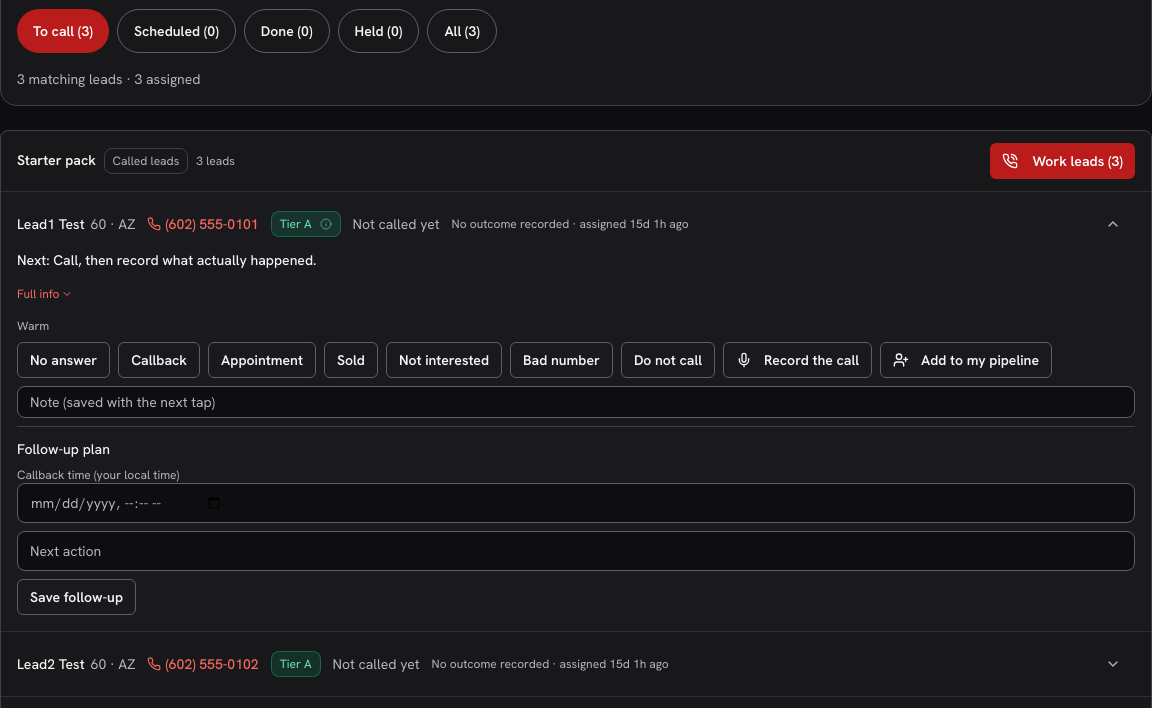
My Leads work list › recording a result on the open lead opens the next one down
(page scrolled)
Step 1. Click the button "No answer" → (64, 360), box [17,342,110,378]
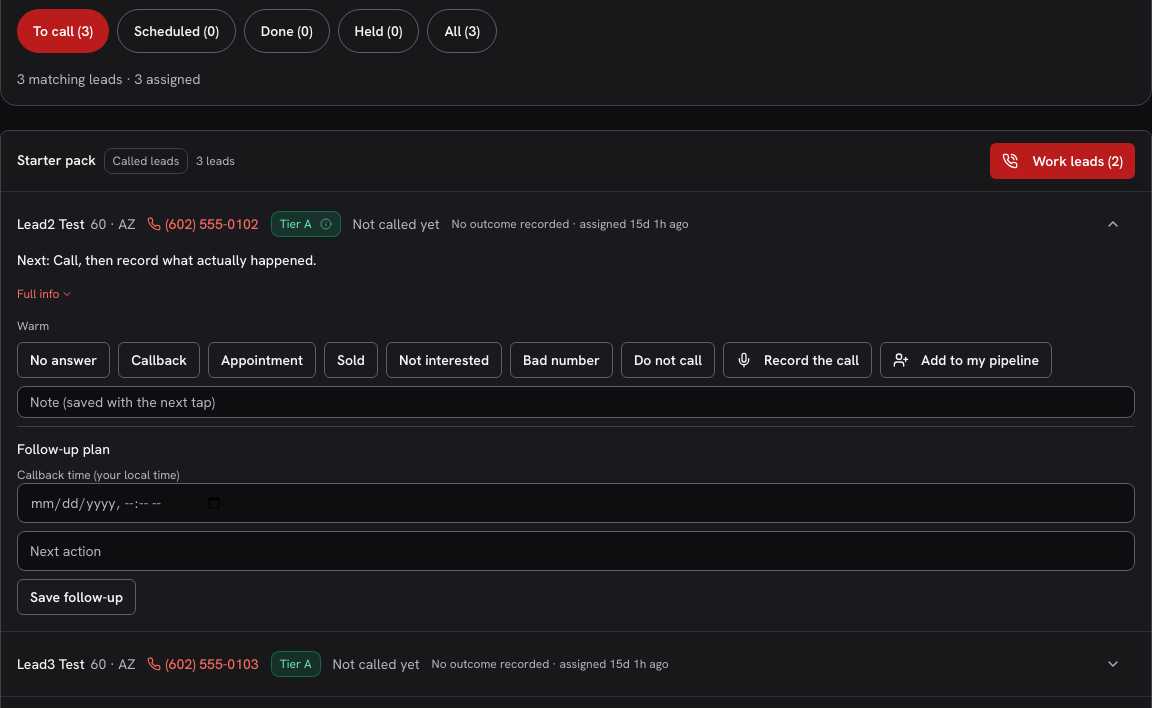
Expected: the list item with test id "lead-row" shows "Lead2", [17,215,85,233]
